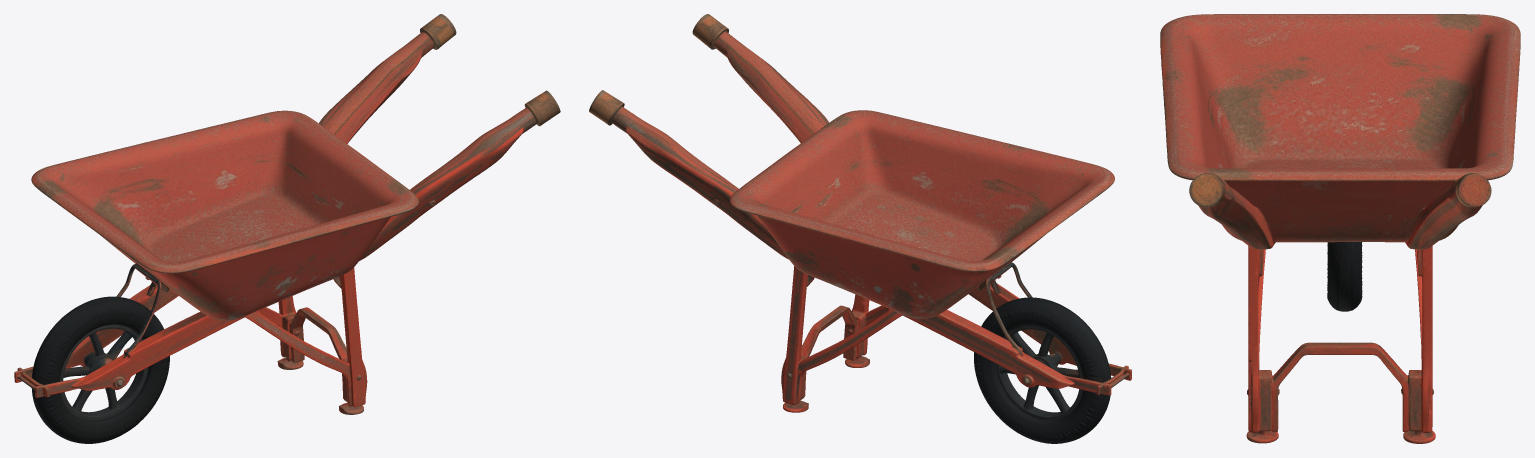
Rendered from Wheelbarrow.fbx.
3 renders of one model, left to right at view 1: azimuth 30°, elevation 25°; view 2: azimuth 150°, elevation 25°; view 3: azimuth 270°, elevation 25°, orthographic. The views are drawn at different scales.
Parts seen in each view (by area): view 1: mesh_node; view 2: mesh_node; view 3: mesh_node.
Part boxes in pixels (x1=…): mesh_node: x1=14, y1=14, x2=560, y2=443; mesh_node: x1=589, y1=14, x2=1131, y2=443; mesh_node: x1=1160, y1=14, x2=1520, y2=443.
Size of the model in its own units: 261 by 152 by 133.
Materials: 1 (1 with a texture image).
